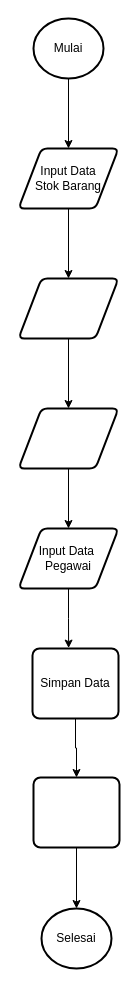
Image size: 137x986. Some labels were removed from this diagram. The box of each missing label's shape, as (x1, y1, x2, y2) in pixels:
Hitung Jumlah Stok: (32, 776, 120, 848)
Input Data Bahan Mentah: (17, 407, 119, 469)
Input Data Supplier: (17, 277, 119, 339)
